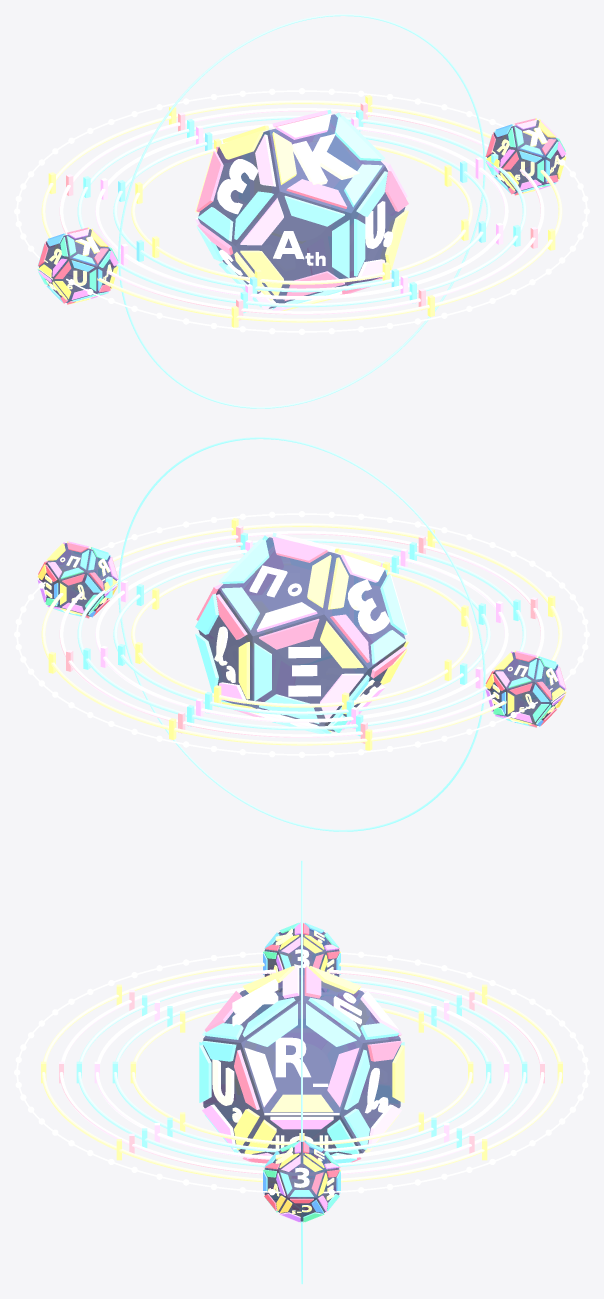
File: engine_sexa.glb
3 views of the same model, one above another, from view 1: azimuth 30°, elevation 25°; view 2: azimuth 150°, elevation 25°; view 3: azimuth 270°, elevation 25° (orthographic).
Visible parts, largest first — view 1: main_body, gate_stage5_dipole, gate_stage4_cassini, gate_stage3_exact_speed, gate_stage2_nonzero_coupling, return_loop, gate_stage1_exact_consistency, gate_stage0_pol_label, outer_ring, main_glyph_1_κ_0, CTRL_B_body, CTRL_A_body (+22 smaller); view 2: main_body, gate_stage5_dipole, gate_stage4_cassini, gate_stage3_exact_speed, gate_stage2_nonzero_coupling, return_loop, gate_stage1_exact_consistency, gate_stage0_pol_label, outer_ring, CTRL_B_body, CTRL_A_body, main_glyph_3_ε_0 (+21 smaller); view 3: main_body, gate_stage5_dipole, gate_stage4_cassini, gate_stage3_exact_speed, gate_stage2_nonzero_coupling, gate_stage1_exact_consistency, gate_stage0_pol_label, outer_ring, CTRL_A_body, core, CTRL_B_body, main_glyph_1_κ_0 (+15 smaller).
Boxes of the visible parts, left/top/right/bottom form: main_body: left=198, top=114, right=405, bottom=308; gate_stage5_dipole: left=41, top=100, right=562, bottom=322; gate_stage4_cassini: left=59, top=108, right=544, bottom=314; gate_stage3_exact_speed: left=77, top=115, right=526, bottom=307; gate_stage2_nonzero_coupling: left=95, top=124, right=508, bottom=299; return_loop: left=118, top=14, right=485, bottom=408; gate_stage1_exact_consistency: left=113, top=132, right=490, bottom=292; gate_stage0_pol_label: left=131, top=139, right=472, bottom=284; outer_ring: left=16, top=90, right=587, bottom=332; main_glyph_1_κ_0: left=292, top=133, right=359, bottom=184; CTRL_B_body: left=39, top=229, right=116, bottom=302; CTRL_A_body: left=487, top=120, right=564, bottom=193; main_body: left=198, top=537, right=405, bottom=731; gate_stage5_dipole: left=41, top=523, right=562, bottom=745; gate_stage4_cassini: left=59, top=531, right=544, bottom=737; gate_stage3_exact_speed: left=77, top=538, right=526, bottom=730; gate_stage2_nonzero_coupling: left=95, top=547, right=508, bottom=722; return_loop: left=118, top=437, right=485, bottom=831; gate_stage1_exact_consistency: left=113, top=555, right=490, bottom=715; gate_stage0_pol_label: left=131, top=562, right=472, bottom=707; outer_ring: left=16, top=513, right=587, bottom=755; CTRL_B_body: left=487, top=652, right=564, bottom=725; CTRL_A_body: left=39, top=543, right=116, bottom=616; main_glyph_3_ε_0: left=347, top=579, right=389, bottom=633; main_body: left=203, top=968, right=400, bottom=1156; gate_stage5_dipole: left=41, top=962, right=562, bottom=1182; gate_stage4_cassini: left=59, top=969, right=544, bottom=1175; gate_stage3_exact_speed: left=77, top=978, right=526, bottom=1167; gate_stage2_nonzero_coupling: left=95, top=987, right=508, bottom=1159; gate_stage1_exact_consistency: left=113, top=993, right=490, bottom=1152; gate_stage0_pol_label: left=131, top=1000, right=472, bottom=1145; outer_ring: left=16, top=952, right=587, bottom=1193; CTRL_A_body: left=264, top=1142, right=339, bottom=1221; core: left=273, top=1044, right=330, bottom=1093; CTRL_B_body: left=264, top=928, right=339, bottom=991; main_glyph_1_κ_0: left=232, top=979, right=278, bottom=1026.
Size of the model in its own units: 7.33 by 5.23 by 7.1.
